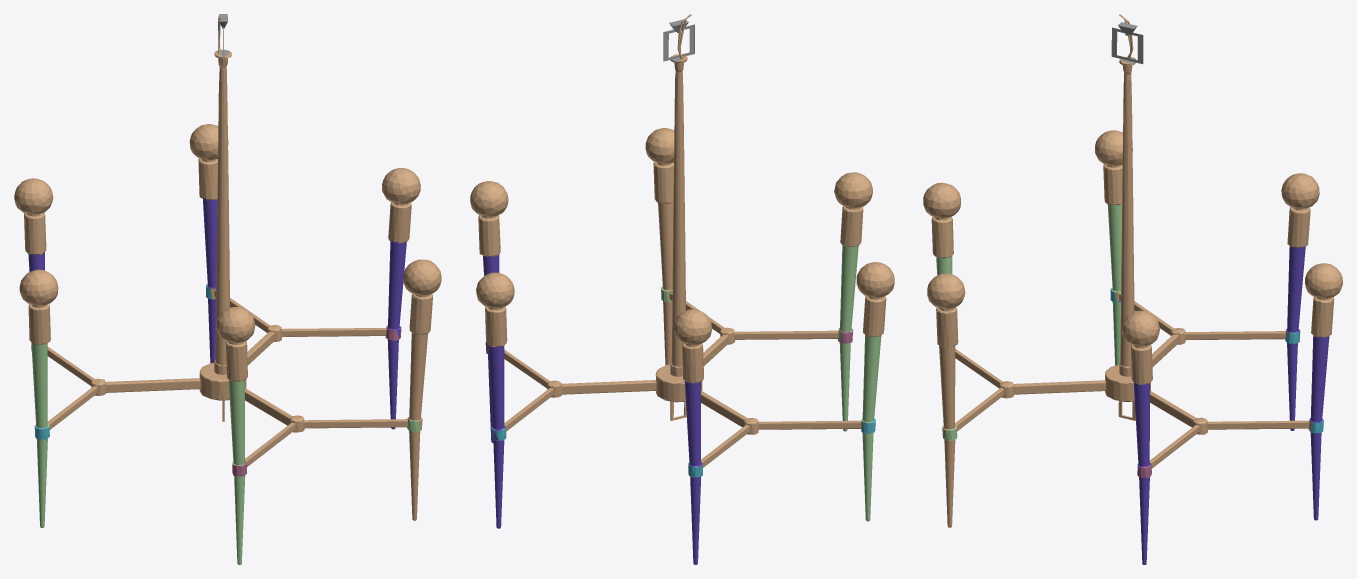
Rendered from old.glb.
The picture shows the model from 3 angles, left to right: view 1: azimuth 30°, elevation 25°; view 2: azimuth 150°, elevation 25°; view 3: azimuth 270°, elevation 25°; orthographic projection.
Visible parts, largest first — view 1: world; view 2: world; view 3: world.
Part boxes in pixels (left/top/right/bottom): world: left=14, top=14, right=441, bottom=564; world: left=470, top=14, right=894, bottom=564; world: left=923, top=14, right=1342, bottom=564.
Bounding box in the file's own units: 0.9168 × 1 × 0.826.
